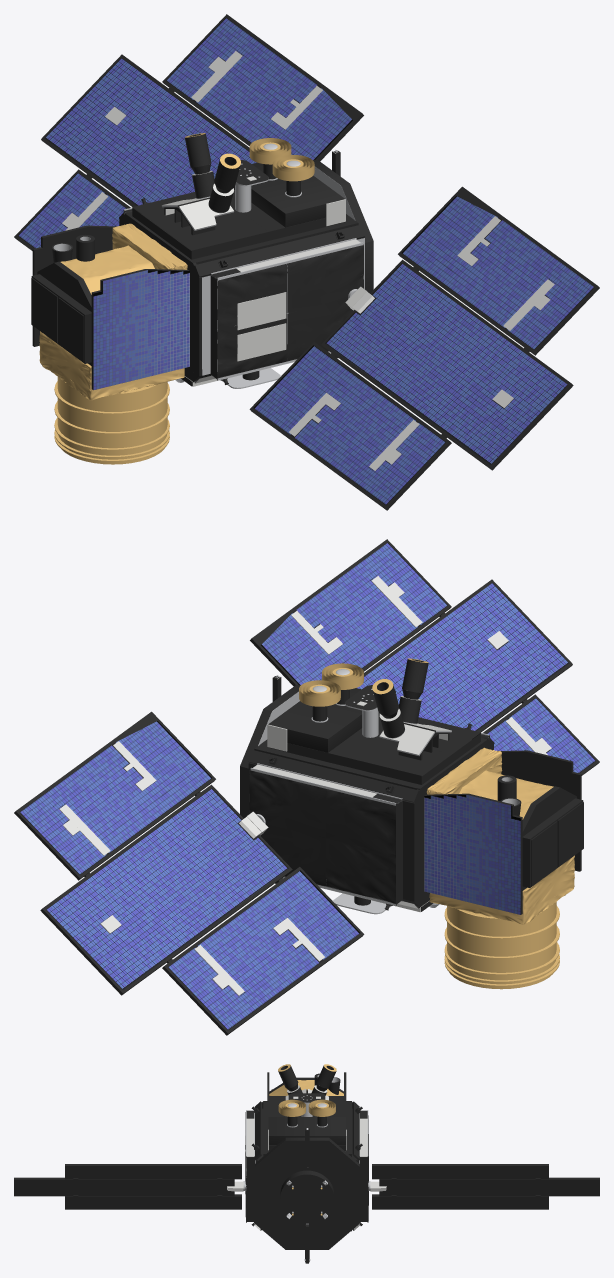
The model's file is icesat.glb.
3 views of the same model, one above another, from view 1: azimuth 30°, elevation 25°; view 2: azimuth 150°, elevation 25°; view 3: azimuth 270°, elevation 25° (orthographic). The views are drawn at different scales.
Visible parts, largest first — view 1: icesat; view 2: icesat; view 3: icesat.
Part boxes in pixels (box(x1,y1,x2,y2)): icesat: box(14, 14, 599, 510); icesat: box(14, 539, 599, 1035); icesat: box(14, 1064, 599, 1263).
Bounding box in the file's own units: 1.42 × 1.05 × 3.1.
5 materials, 1 textured.
